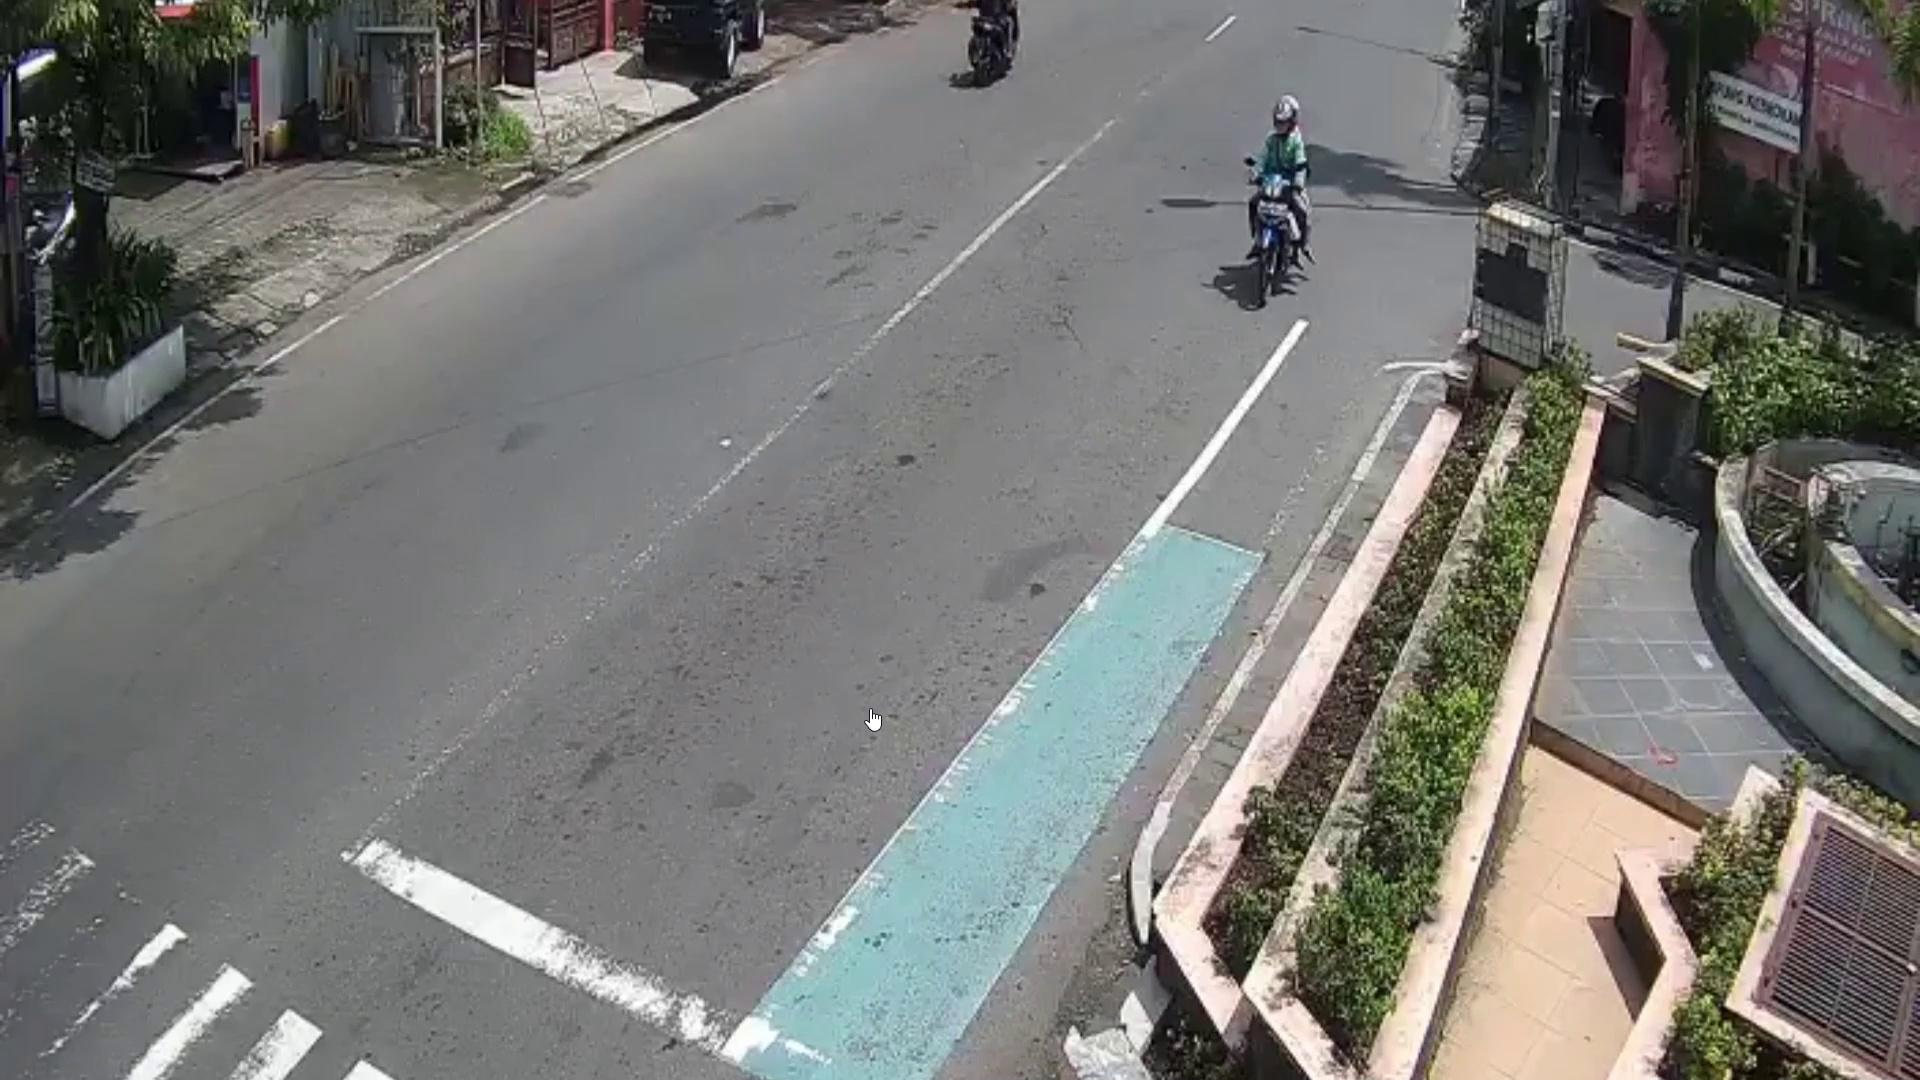motorbike: (1253, 173, 1300, 305)
